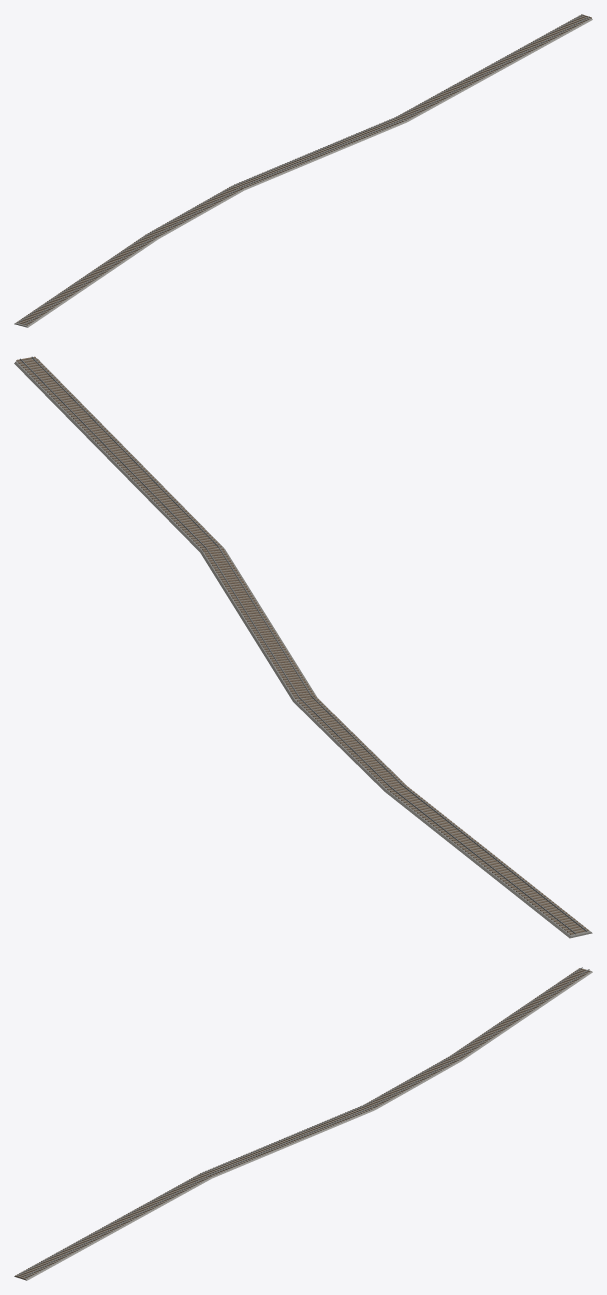
The model's file is rail_01203.glb.
The picture shows the model from 3 angles, top to bottom: view 1: azimuth 90°, elevation 25°; view 2: azimuth 150°, elevation 25°; view 3: azimuth 270°, elevation 25°; orthographic projection. The views are drawn at different scales.
Visible parts, largest first — view 1: Sleepers, Ballast, Rails; view 2: Sleepers, Ballast, Rails; view 3: Sleepers, Ballast, Rails.
Boxes of the visible parts, box(x1,y1,x2,y2) form: Sleepers: box(16, 14, 591, 325); Ballast: box(14, 15, 592, 327); Rails: box(17, 14, 589, 324); Sleepers: box(16, 356, 588, 934); Ballast: box(14, 358, 592, 938); Rails: box(20, 356, 587, 934); Sleepers: box(15, 968, 590, 1279); Ballast: box(14, 968, 592, 1280); Rails: box(17, 967, 589, 1277).
Bounding box in the file's own units: 134 × 0.48 × 105.
